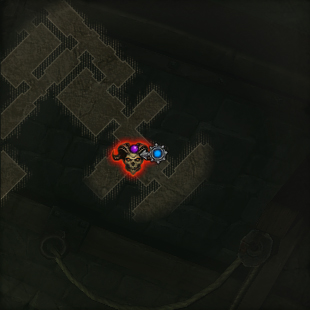Guardian: (110, 138, 158, 179)
